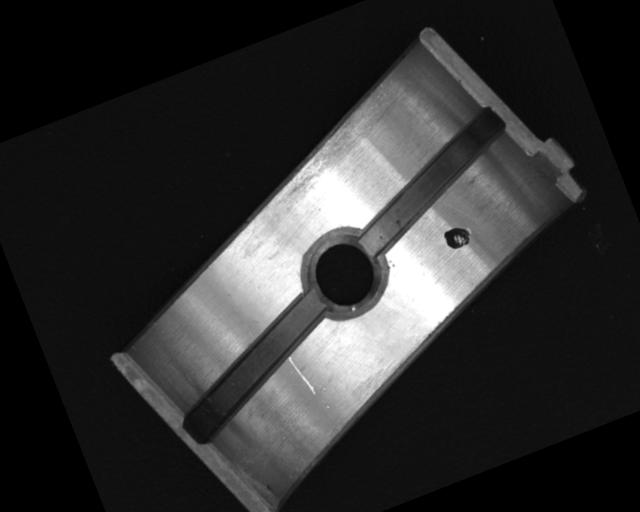blot: (441, 221, 476, 252)
gap: (158, 287, 353, 446), (333, 105, 530, 258)
hole: (293, 218, 397, 328)
nick: (287, 351, 317, 399)
scratch: (239, 83, 412, 212)
